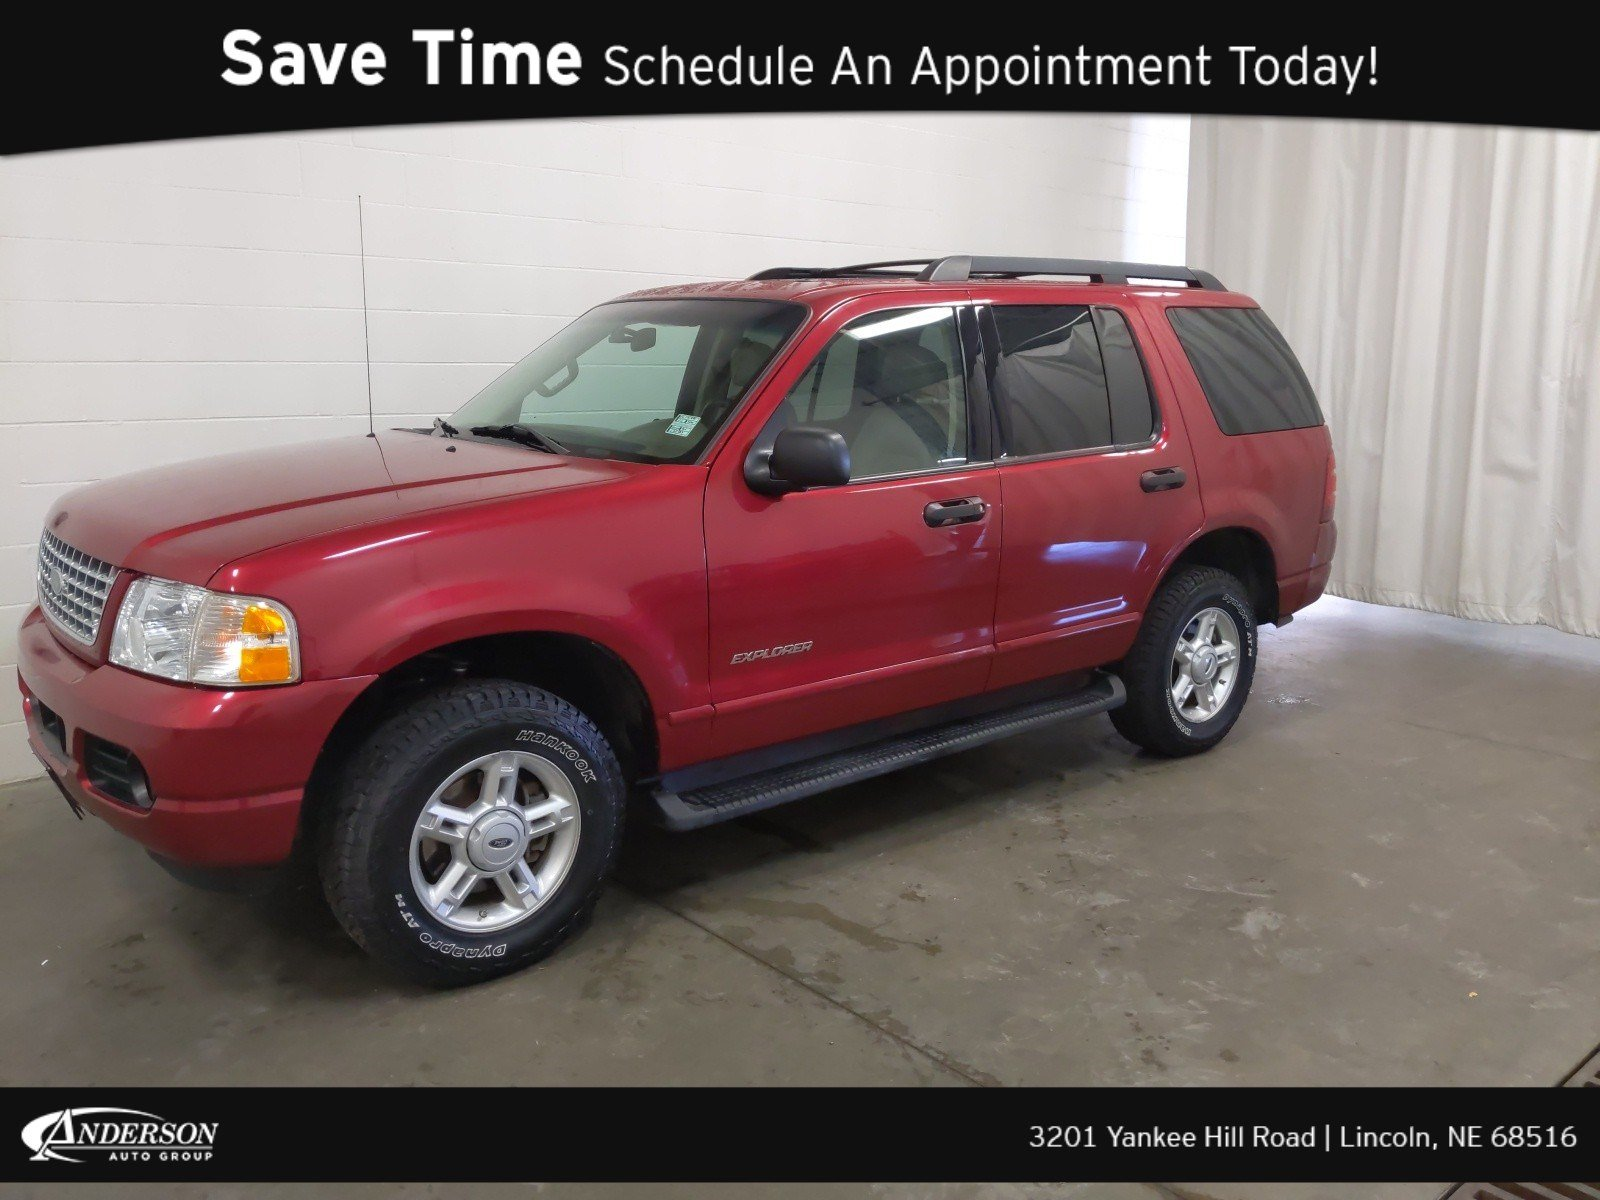Ford Explorer: (6, 248, 1346, 1000)
